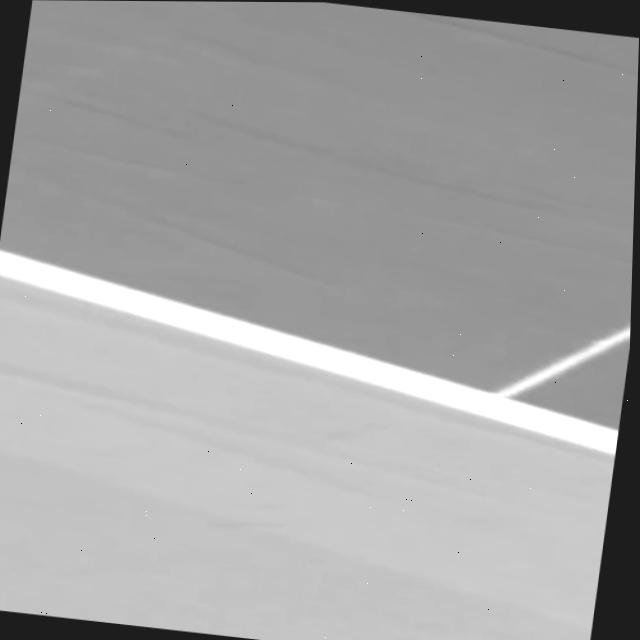right: (0, 248, 618, 452)
